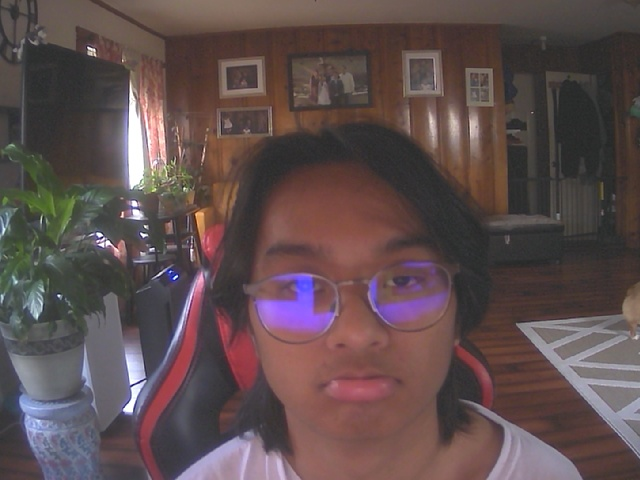sad: (231, 128, 476, 450)
